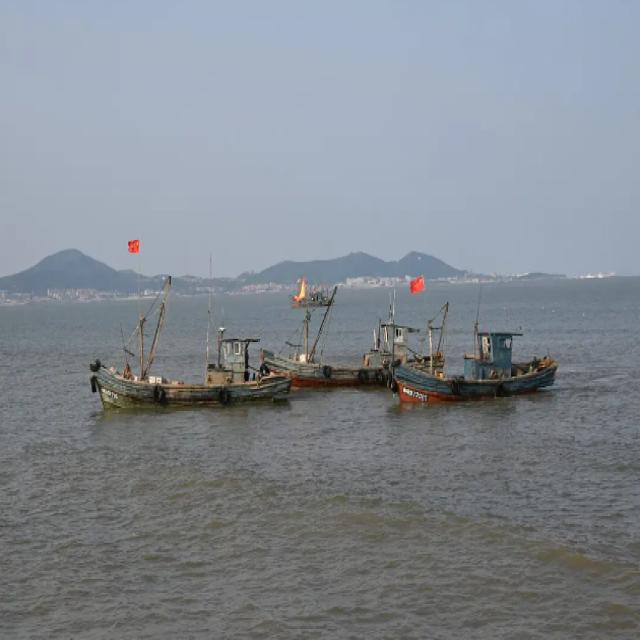fishing boat: (88, 280, 287, 412), (264, 298, 444, 388), (387, 313, 565, 404), (286, 275, 336, 306)
